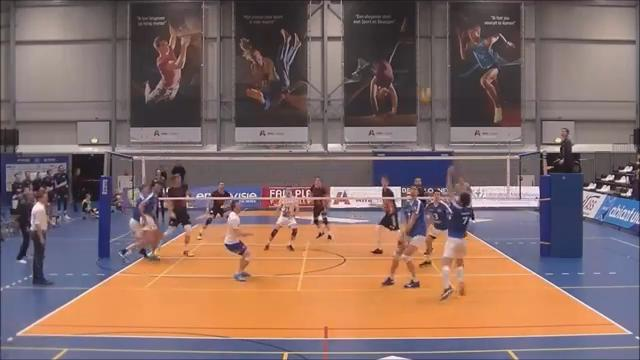Dig: (435, 161, 471, 301)
Player: (382, 186, 426, 287), (440, 166, 472, 300), (119, 185, 156, 260), (164, 175, 193, 256), (419, 189, 449, 266), (224, 200, 251, 280), (264, 187, 298, 250), (371, 176, 398, 253), (197, 182, 231, 239), (310, 177, 331, 240), (414, 177, 426, 205)
ball: (418, 87, 433, 107)
